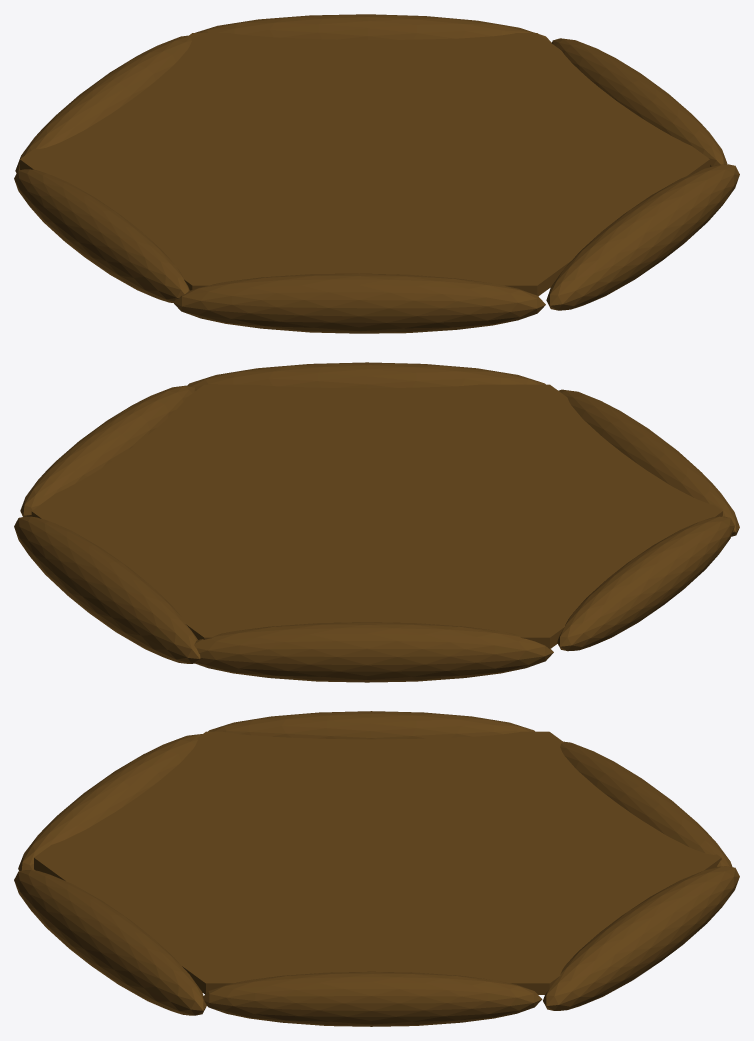
Rendered from podłoga mrowisko.fbx.
3 renders of one model, top to bottom at view 1: azimuth 30°, elevation 25°; view 2: azimuth 150°, elevation 25°; view 3: azimuth 270°, elevation 25°, orthographic.
Parts seen in each view (by area): view 1: Cylinder; view 2: Cylinder; view 3: Cylinder.
Boxes of the visible parts, <box> form: Cylinder: <box>14,14,739,333</box>; Cylinder: <box>14,362,739,682</box>; Cylinder: <box>14,711,739,1026</box>.
Size of the model in its own units: 1100 by 104 by 1189.
